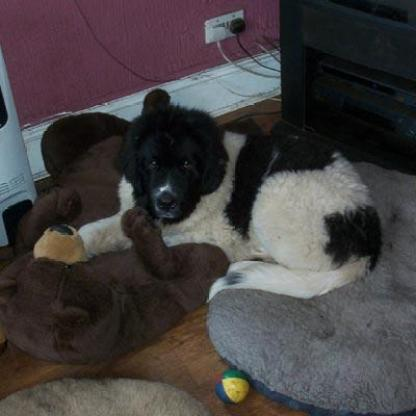Newfoundland: (77, 88, 380, 302)
